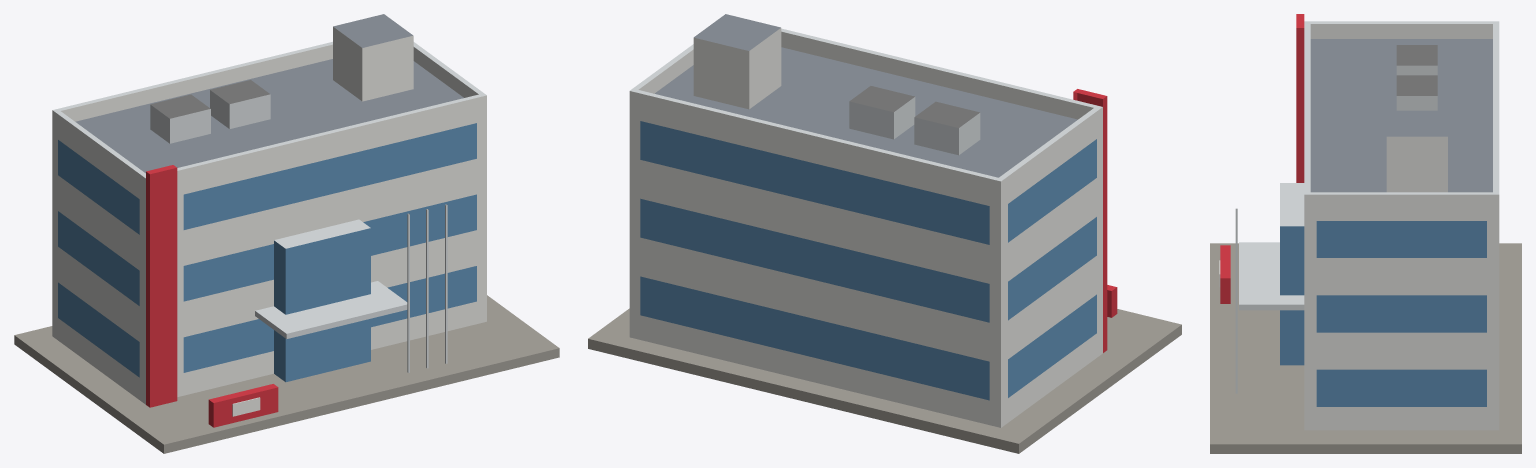
The model's file is mashup-admin-top-prebuilt.fbx.
3 renders of one model, left to right at view 1: azimuth 30°, elevation 25°; view 2: azimuth 150°, elevation 25°; view 3: azimuth 270°, elevation 25°, orthographic. The views are drawn at different scales.
Visible parts, largest first — view 1: a1029/0/mashup-admin-top-prebuilt; view 2: a1029/0/mashup-admin-top-prebuilt; view 3: a1029/0/mashup-admin-top-prebuilt.
Part boxes in pixels (x1,y1,x2,y2): a1029/0/mashup-admin-top-prebuilt: (14,14,559,453); a1029/0/mashup-admin-top-prebuilt: (588,14,1181,453); a1029/0/mashup-admin-top-prebuilt: (1210,14,1521,453).
Size of the model in its own units: 23.2 by 15.4 by 15.2.
